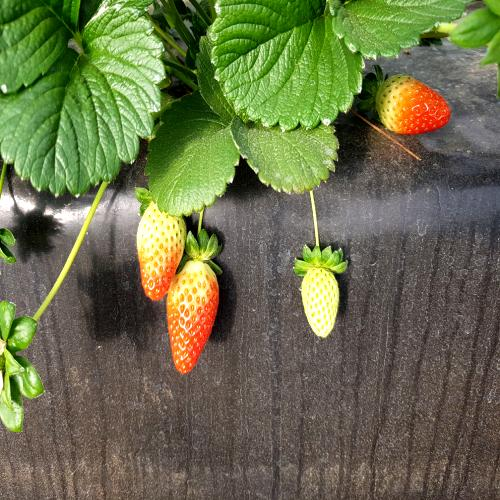partially-ripe: (163, 248, 221, 384), (369, 65, 462, 146), (134, 192, 186, 306)
unripe: (296, 260, 346, 345)
